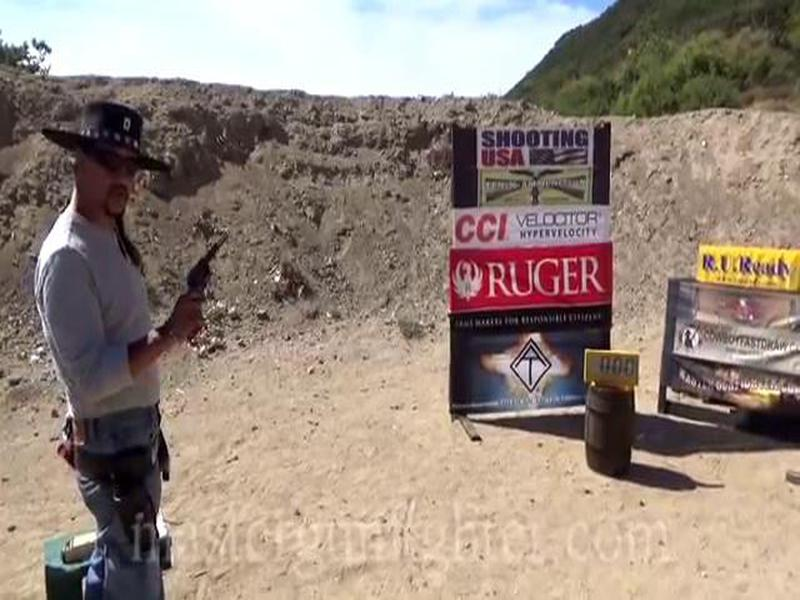Revolver: (167, 226, 250, 353)
